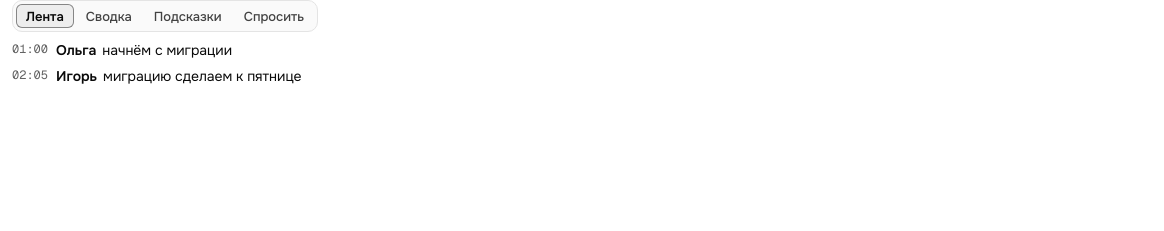
Test: узкая: четыре вкладки, по умолчанию лента; вкладки переключают содержимое
Expected: the list shows "начнём с миграции", [102, 41, 232, 59]
What coordinates should you click on to do the following:
click the tab "Сводка"
I would click on:
 (109, 16)
Its box is [76, 4, 142, 28].
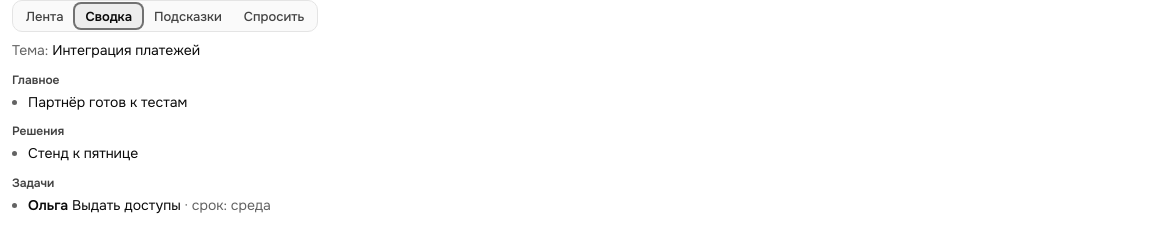
Expected: the text "Интеграция платежей" is shown, [52, 41, 200, 59]
Expected: the element "Задачи" shows "Ольга Выдать доступы · срок: среда", [12, 175, 271, 214]
What coordinates should you click on to do the following:
click the tab "Подсказки"
I would click on:
 (188, 16)
Its box is [144, 4, 232, 28].
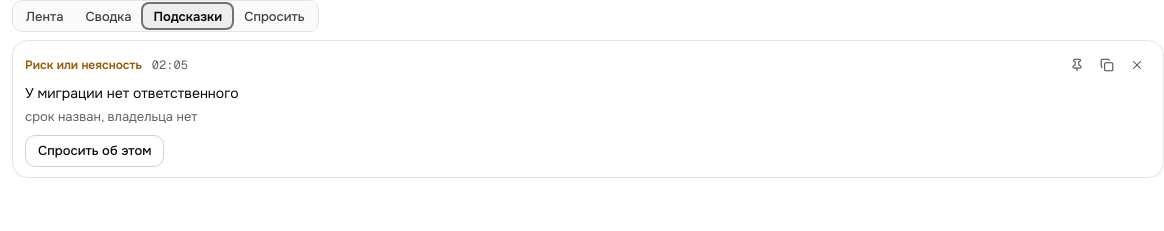
Expected: the text "У миграции нет ответственного" is shown, [25, 84, 239, 102]
Expected: the text "Риск или неясность" is shown, [25, 56, 142, 74]
